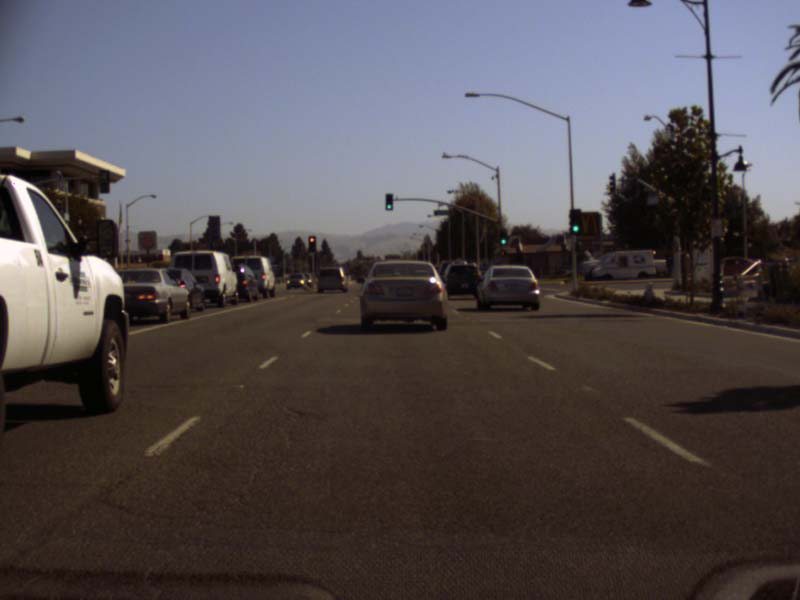Green: (570, 209, 580, 233), (385, 193, 393, 210), (499, 229, 506, 244)
Red: (308, 236, 316, 252)
